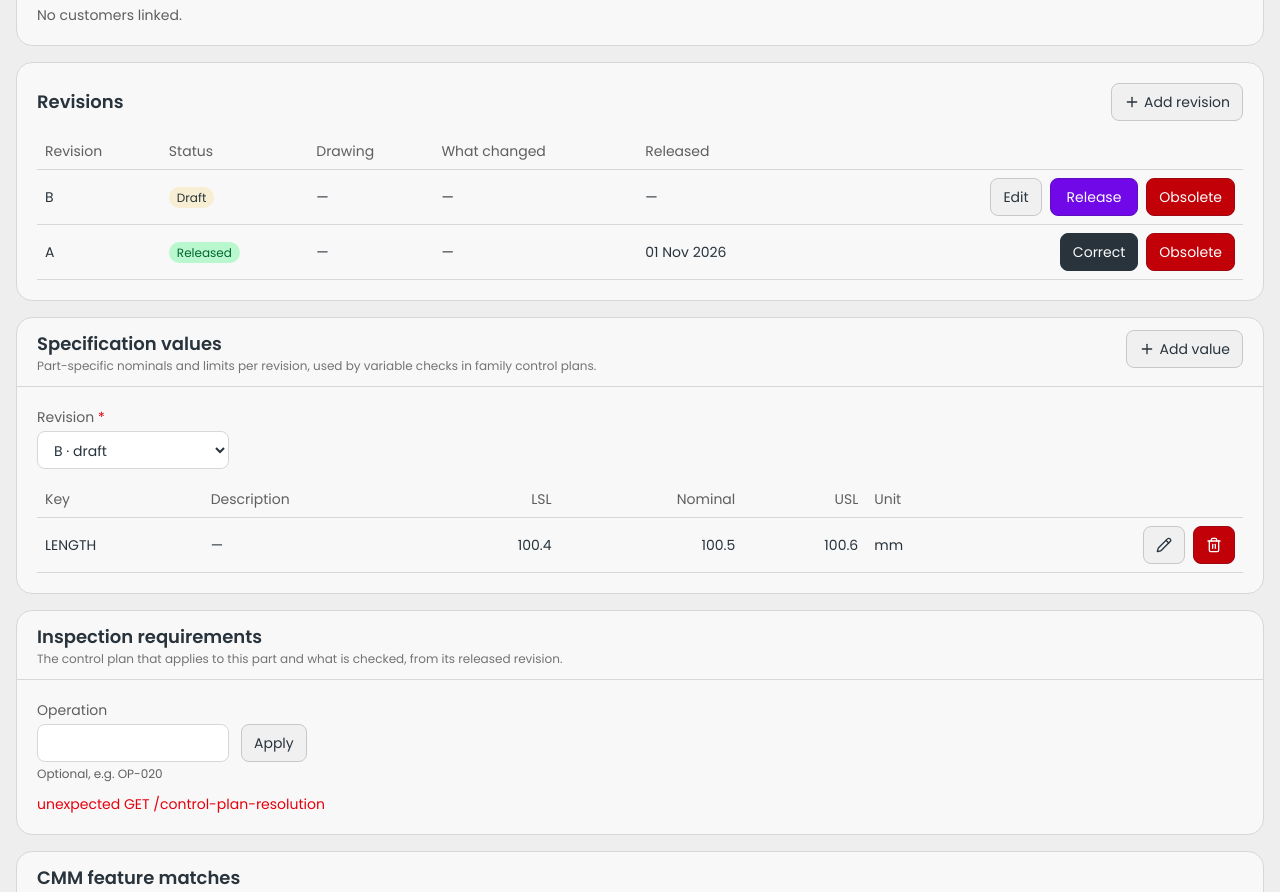
Test: Part specification values › edits values on the draft and locks the released revision
(page scrolled)
Expected: the text "100.5" is shown, [560,518,743,573]
Expected: the button named "Edit LENGTH" is shown, [1143,526,1185,564]
Select "A · released" in the dropdown labelled "Revision" at (133, 450), box [37,431,229,469]
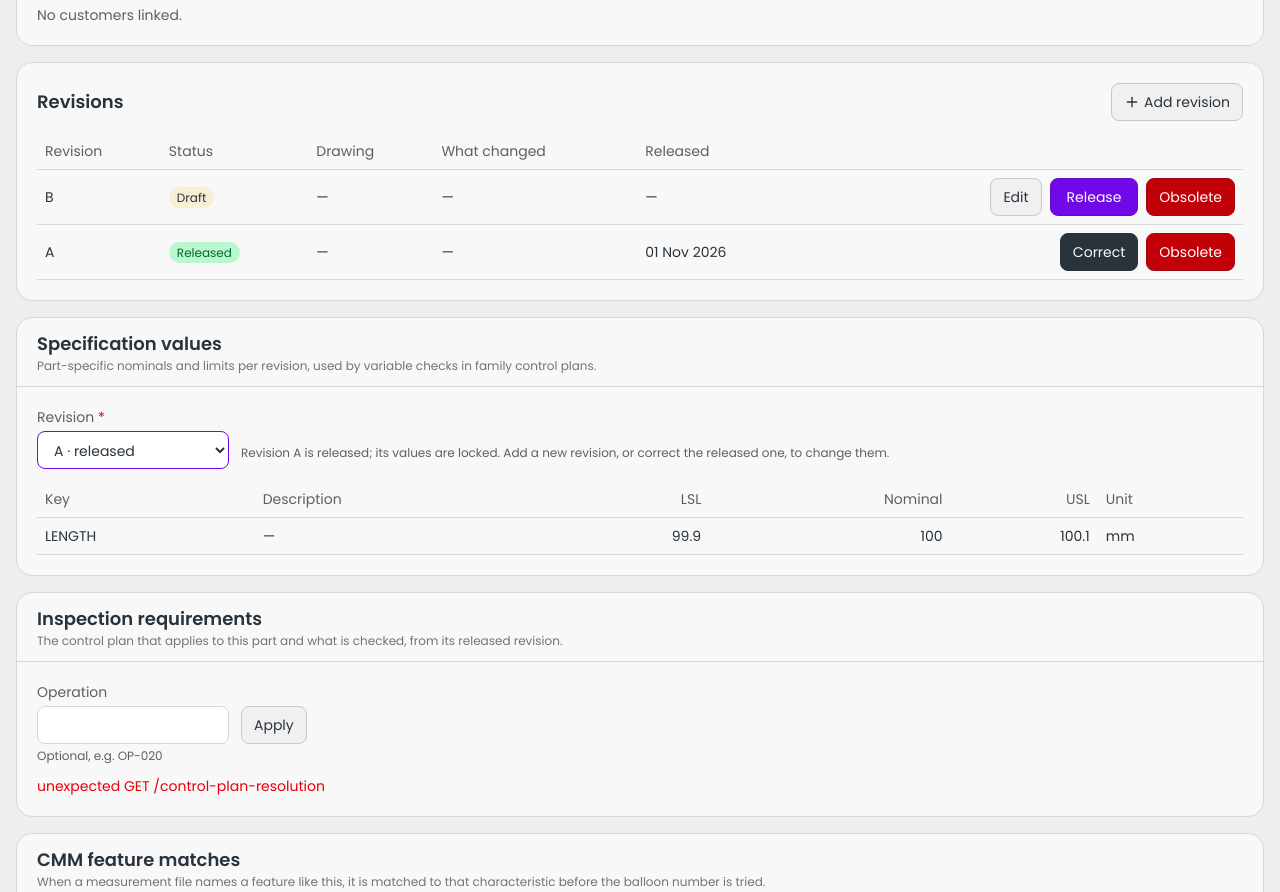
Expected: the button "Add value" is gone
Expected: the text "Revision A is released; its values are locked" is shown, [241,445,889,469]
